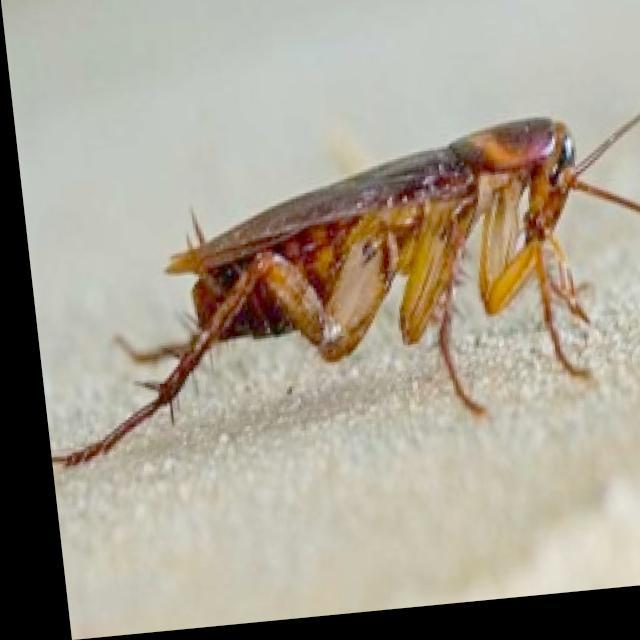cockroach: (49, 107, 637, 472)
